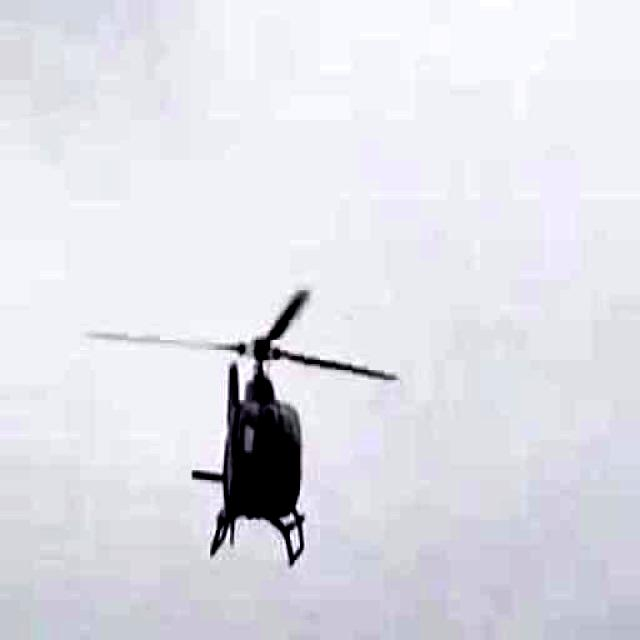drone: (81, 188, 445, 628)
